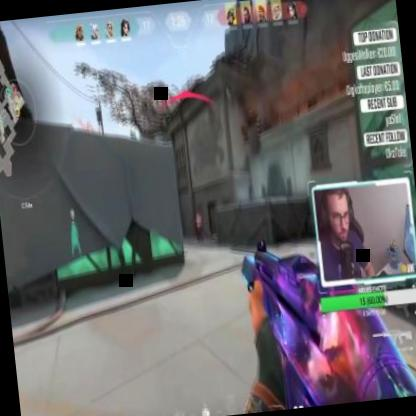enemy: (194, 211, 205, 244)
enemy_head: (196, 210, 200, 217)
